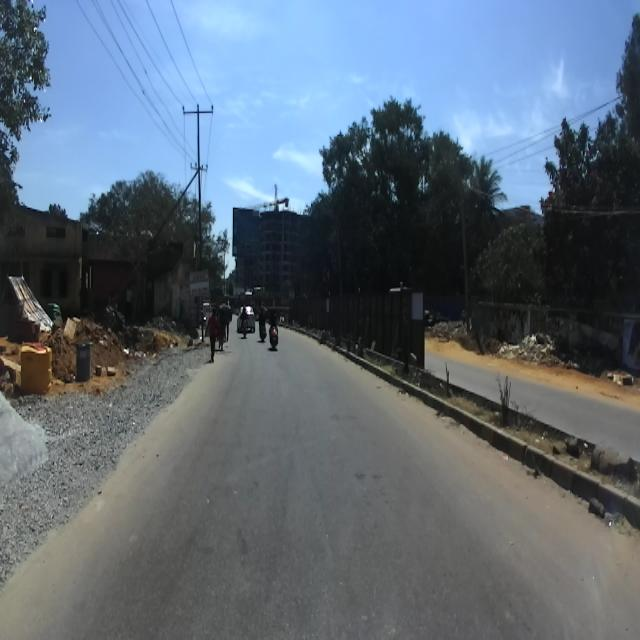electric pole ahead at: (177, 86, 221, 286)
person ahead at: (202, 303, 225, 369)
